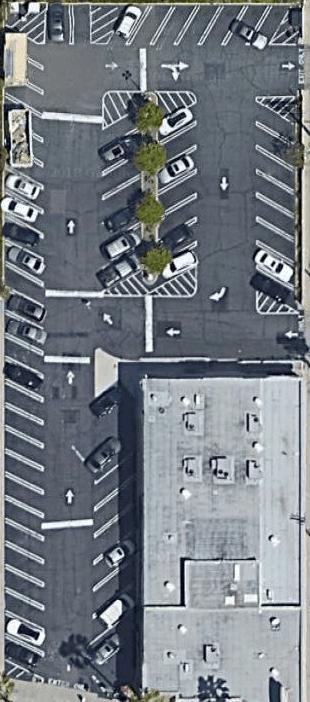parkingspot: (1, 163, 49, 676), (86, 433, 137, 672), (248, 98, 297, 307), (103, 3, 294, 49), (99, 109, 144, 295), (157, 100, 201, 284), (41, 3, 93, 47)
